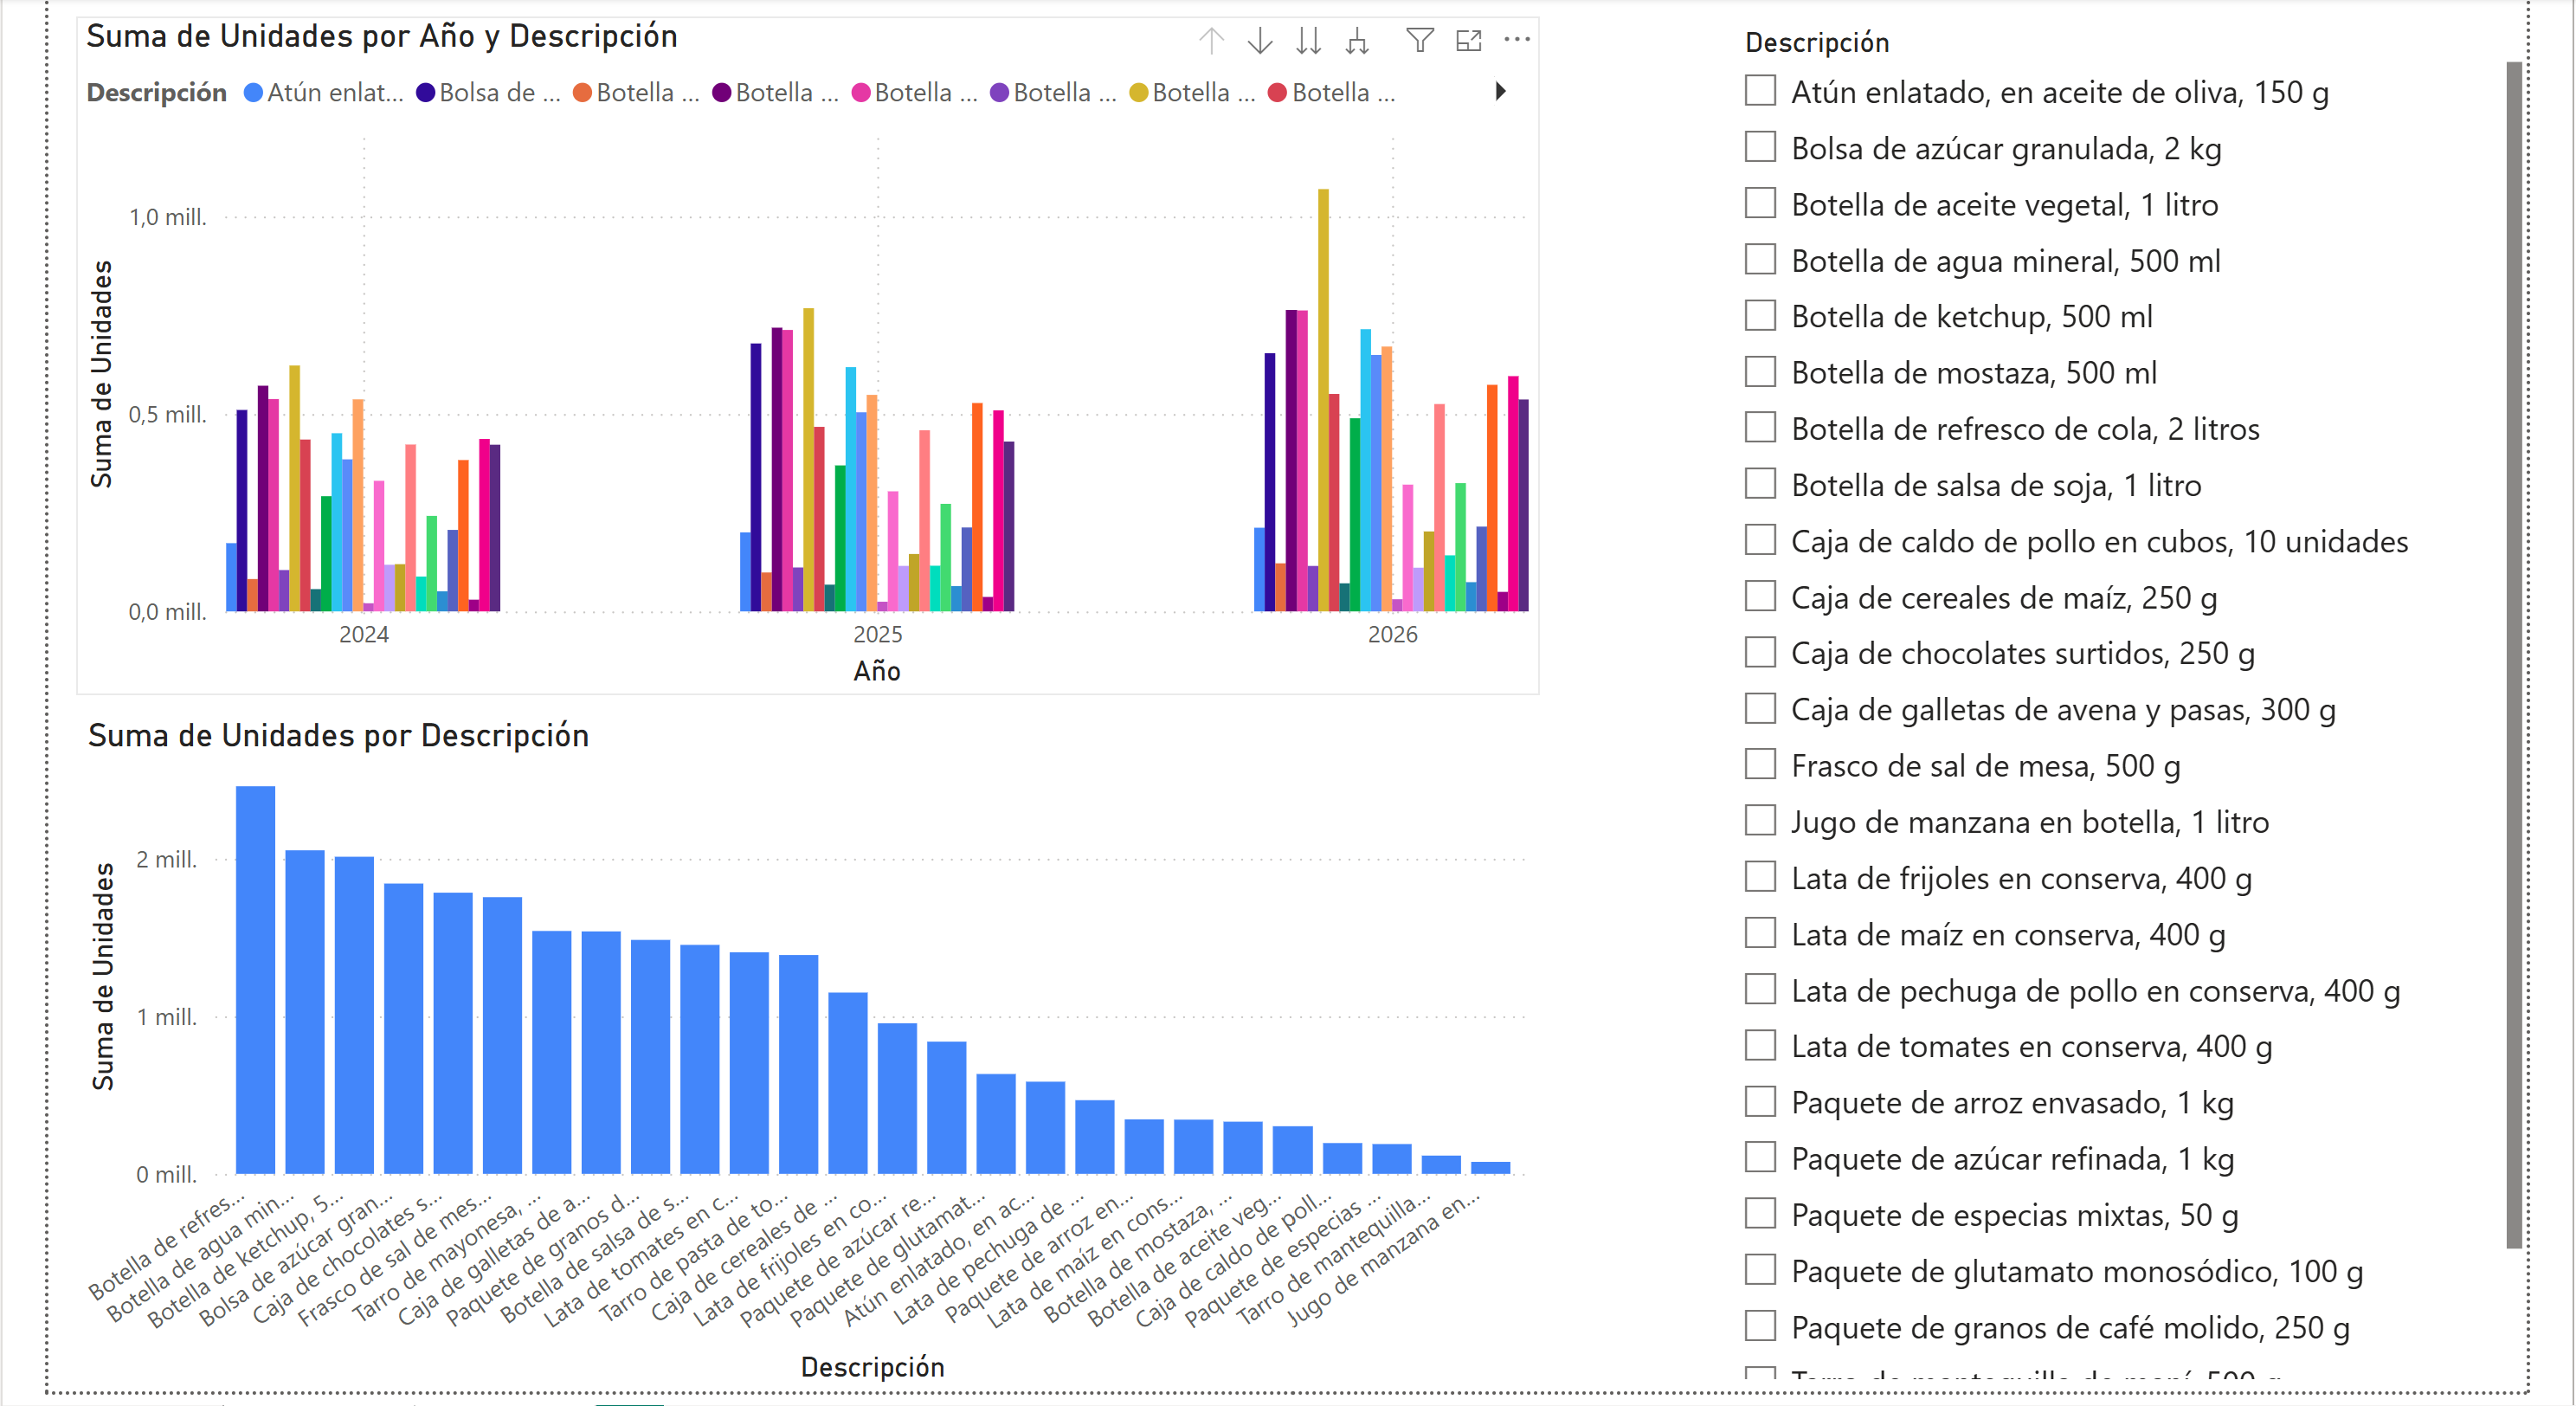

What the dashboard file says about the page in this screenshot:
{"tool":"powerbi","page":{"name":"PRODUCTOS","canvas":[1280,720],"ordinal":0},"visuals":[{"type":"clusteredColumnChart","fields":{"Category":["Ventas_2024_2026.Cierre mes.Variación.Jerarquía de fechas.Año","Ventas_2024_2026.Cierre mes.Variación.Jerarquía de fechas.Trimestre","Ventas_2024_2026.Cierre mes.Variación.Jerarquía de fechas.Mes","Ventas_2024_2026.Cierre mes.Variación.Jerarquía de fechas.Día"],"Y":["Sum(Ventas_2024_2026.Unidades)"],"Series":["Descripcion_Productos.Descripción"]},"box":[14.7,9.8,755.2,350.7],"z":0},{"type":"columnChart","fields":{"Category":["Descripcion_Productos.Descripción"],"Y":["Sum(Ventas_2024_2026.Unidades)"]},"box":[15,371,755,349],"z":1000},{"type":"slicer","fields":{"Values":["Descripcion_Productos.Descripción"]},"box":[863.1,9.8,419.3,708.7],"z":2000}]}

Visuals, with their boxes on the page's 1280x720 design canvas (x1, y1, x2, y2). These are canvas units, not pixel positions in the 2576x1406 screenshot, which may show the page scaled, cropped or inside an application window:
clusteredColumnChart - Ventas_2024_2026.Cierre mes.Variación.Jerarquía de fechas.Año x Ventas_2024_2026.Cierre mes.Variación.Jerarquía de fechas.Trimestre: left=15, top=10, right=770, bottom=360
columnChart - Descripcion_Productos.Descripción x Sum(Ventas_2024_2026.Unidades): left=15, top=371, right=770, bottom=720
slicer - Descripcion_Productos.Descripción: left=863, top=10, right=1282, bottom=718
